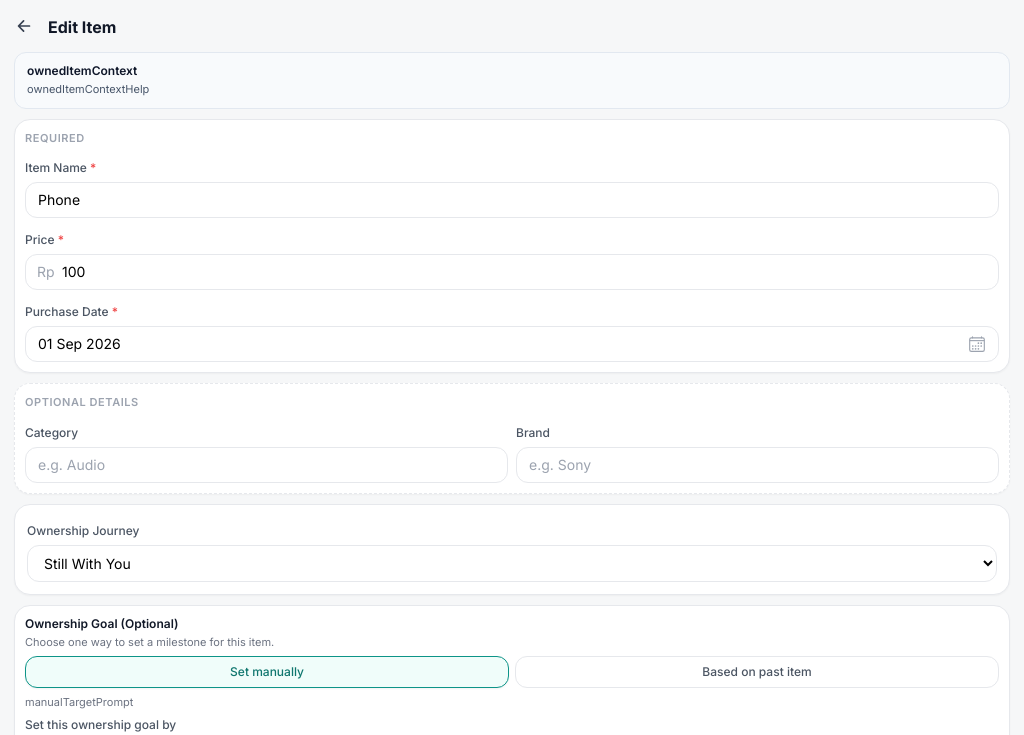
it: AddItem component date localization › prevents future ownership end dates in edit mode
Expected: the field showing "Phone" is shown, left=25, top=182, right=999, bottom=218
Select "No Longer in Use" in the dropdown labelled "Ownership Journey" at (512, 563), box left=27, top=544, right=997, bottom=582
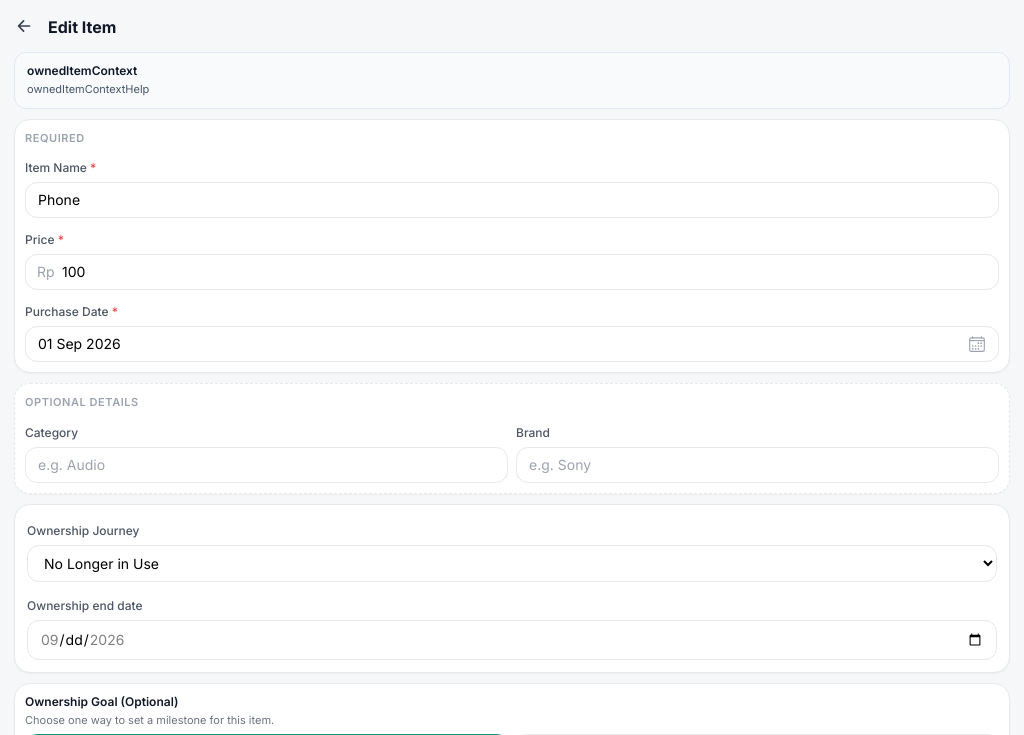
Type "2999-01-01" into the date field labelled "Ownership end date" at (512, 640), box left=27, top=620, right=997, bottom=660
(page scrolled)
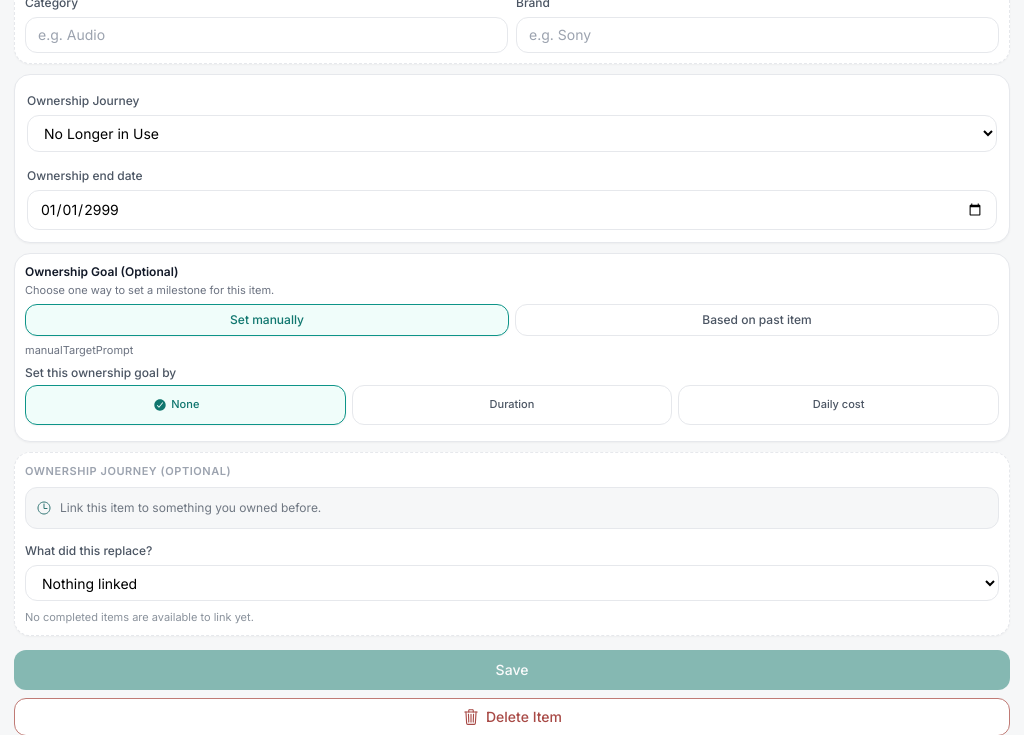
Now the button "Save" is disabled, box left=14, top=650, right=1010, bottom=690
